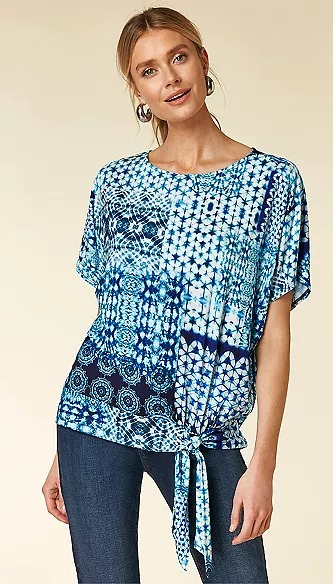C_jeans: (51, 421, 267, 584)
C_short blouse: (55, 150, 313, 576)
